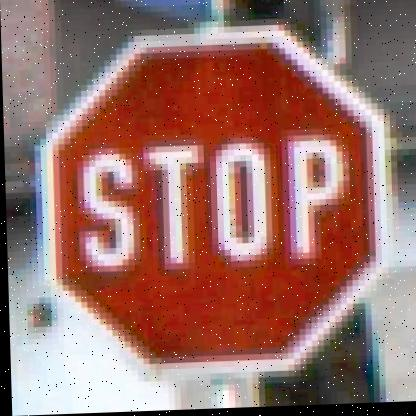Stop Sign: (28, 16, 394, 386)
